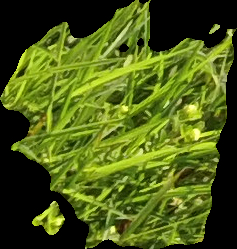grass: (1, 1, 235, 248)
